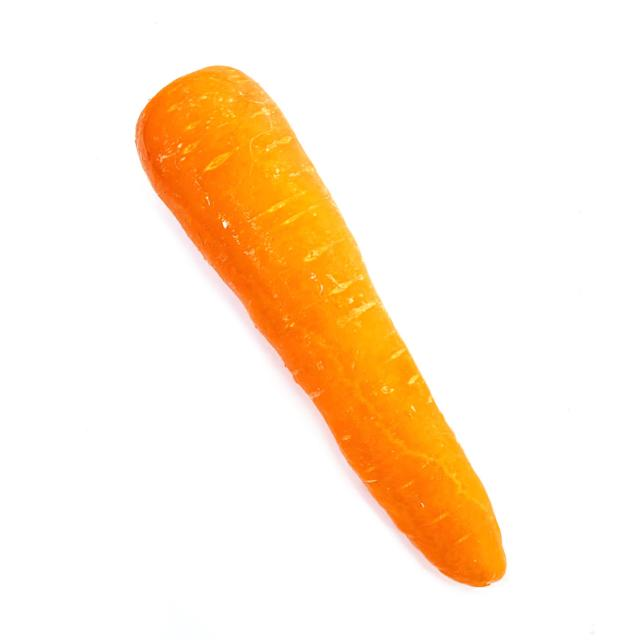Carrot: (124, 58, 509, 590)
